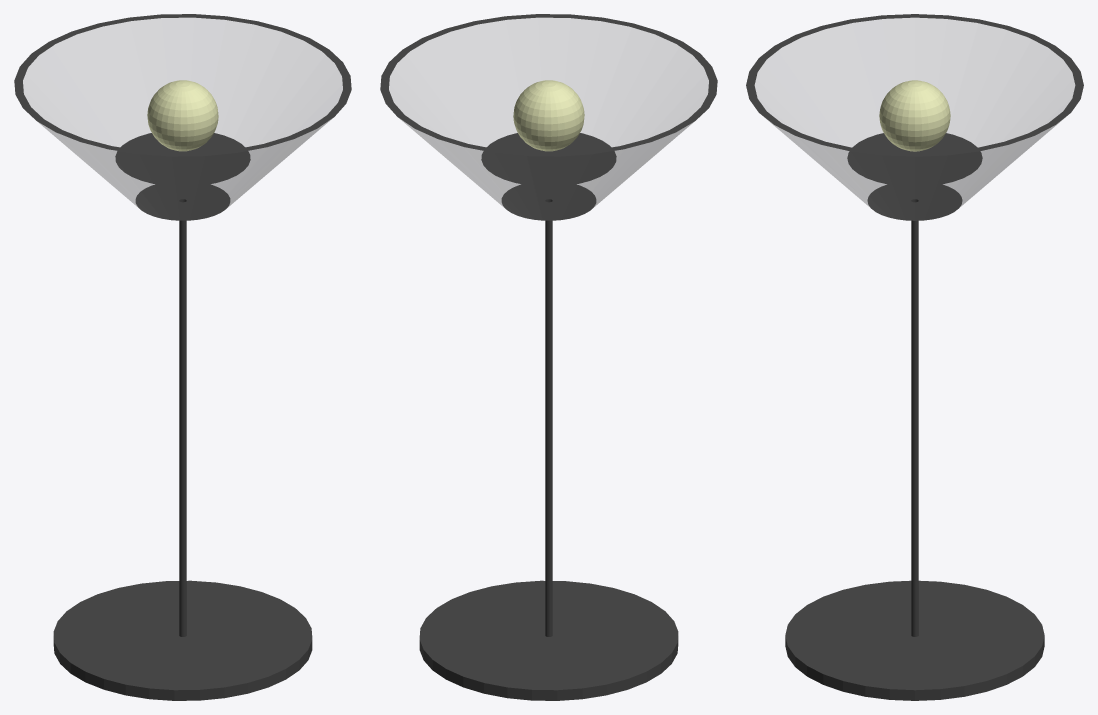
The model's file is floorLamp.glb.
3 renders of one model, left to right at view 1: azimuth 30°, elevation 25°; view 2: azimuth 150°, elevation 25°; view 3: azimuth 270°, elevation 25°, orthographic.
Parts seen in each view (by area): view 1: Sphere; view 2: Sphere; view 3: Sphere.
Part boxes in pixels (bbox=[...]): Sphere: bbox=[14, 14, 351, 700]; Sphere: bbox=[380, 14, 717, 700]; Sphere: bbox=[746, 14, 1083, 700].
Bounding box in the file's own units: 2.84 × 5.22 × 2.84.
